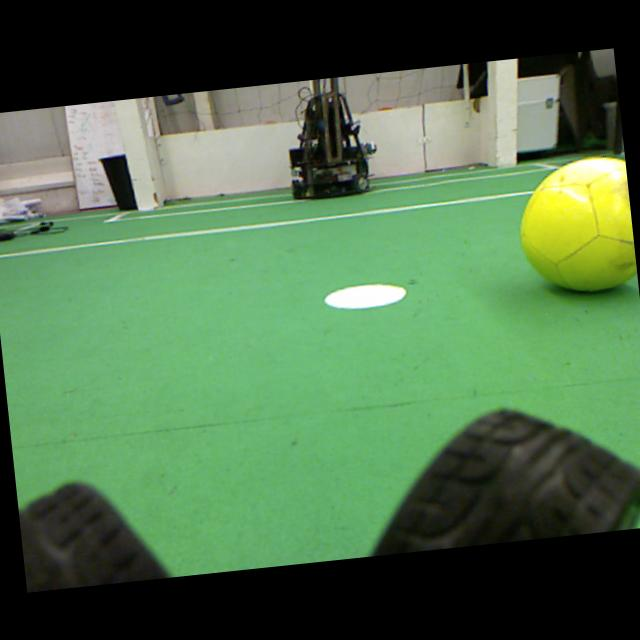ball: (520, 157, 636, 290)
goal: (114, 99, 159, 211), (496, 59, 517, 167)
robot: (289, 77, 377, 199)
